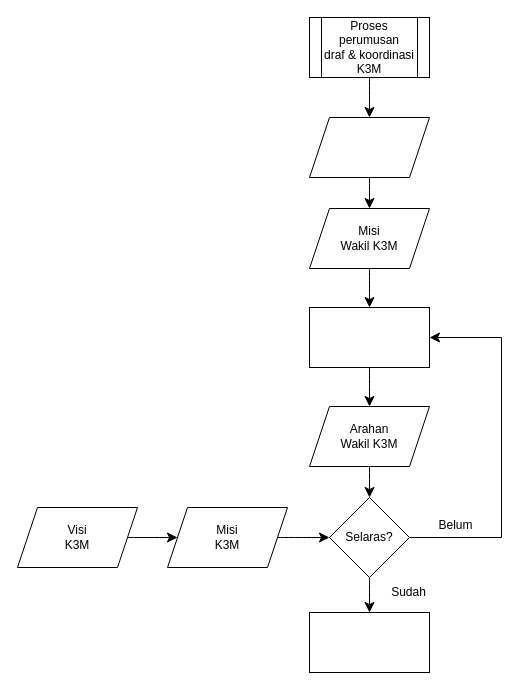
Some shapes in this 529 by 690 pixel diagram are drawn without their labels. Here are the shapes that lost their labels. From the top down, the centre of each, then its label:
the point at 369,147: Visi Wakil K3M
the point at 369,337: Perumusan Arahan Kerja Wakil K3M
the point at 369,642: Perumusan OKR
